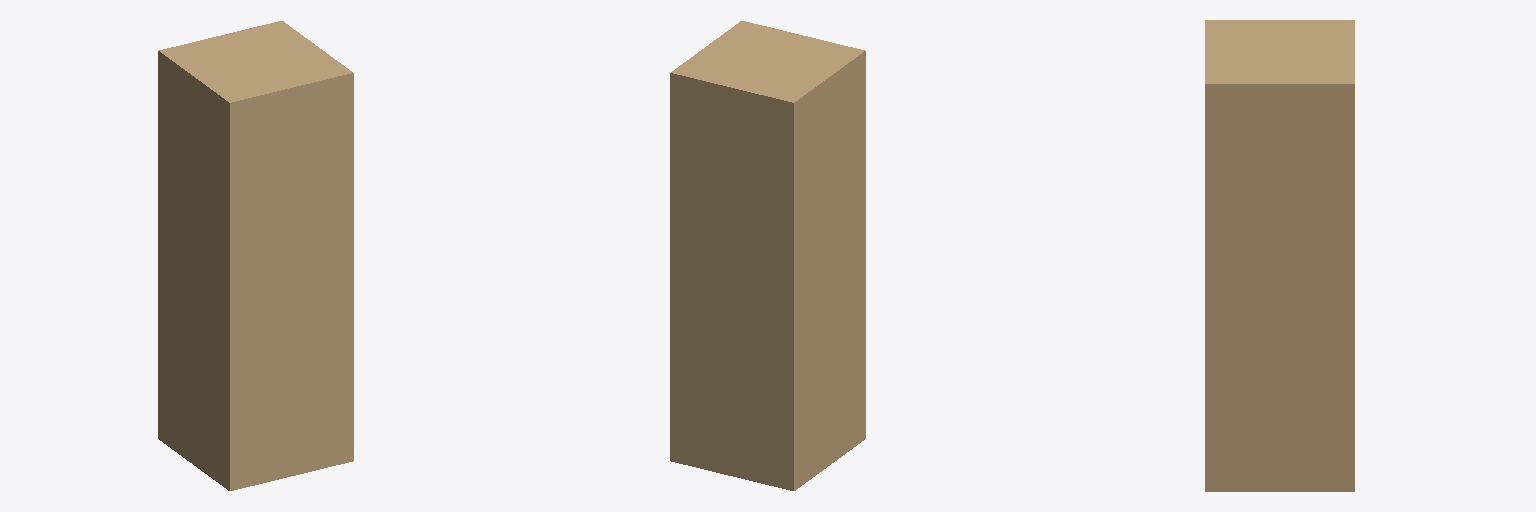
robot.urdf — block:
<?xml version="1.0" ?>
<robot name="block">
  <link name="base_link">
    <visual>
      <geometry>
        <box size="0.5 0.5 1.5"/> <!-- Dimensions: 0.5x0.5x0.2 -->
      </geometry>
      <material name="brown">
        <color rgba="0.82 0.71 0.55 1.0"/> <!-- Brown color -->
      </material>
    </visual>
    <collision>
      <geometry>
        <box size="0.5 0.5 1.5"/>
      </geometry>
    </collision>
    <inertial>
      <mass value="0.0"/>
      <inertia ixx="0.0" ixy="0.0" ixz="0.0" iyy="0.0" iyz="0.0" izz="0.0"/>
    </inertial>
  </link>
</robot>

--- Render facts (derived) ---
Views: 3 orthographic renders of the robot side by side, from view 1: azimuth 30°, elevation 25°; view 2: azimuth 150°, elevation 25°; view 3: azimuth 270°, elevation 25°.
Model block with 1 links and 0 joints (none), rooted at base_link, posed all joints at 0.
Links seen in each view (by area): view 1: base_link; view 2: base_link; view 3: base_link.
Boxes of the visible links, x1,y1,x2,y2 form: base_link: [158, 21, 353, 490]; base_link: [670, 21, 865, 490]; base_link: [1205, 20, 1354, 491].
Size in the robot's own frame: 0.5 by 0.5 by 1.5 metres.
Geometry: primitives only (box / cylinder / sphere), no mesh files.